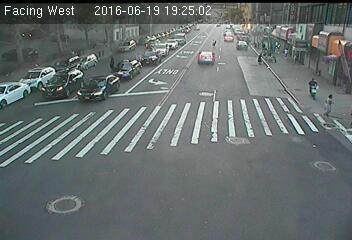neg: (244, 183, 265, 211), (67, 112, 87, 139), (63, 192, 82, 217), (189, 60, 207, 84), (39, 60, 57, 84), (181, 106, 198, 129), (239, 97, 256, 120), (99, 154, 116, 176), (269, 141, 286, 163), (240, 24, 256, 46), (149, 35, 165, 56), (138, 164, 153, 183), (297, 177, 312, 196), (225, 133, 237, 149), (256, 49, 268, 64)
pos: (320, 91, 340, 118), (306, 76, 323, 98), (105, 51, 120, 71)
